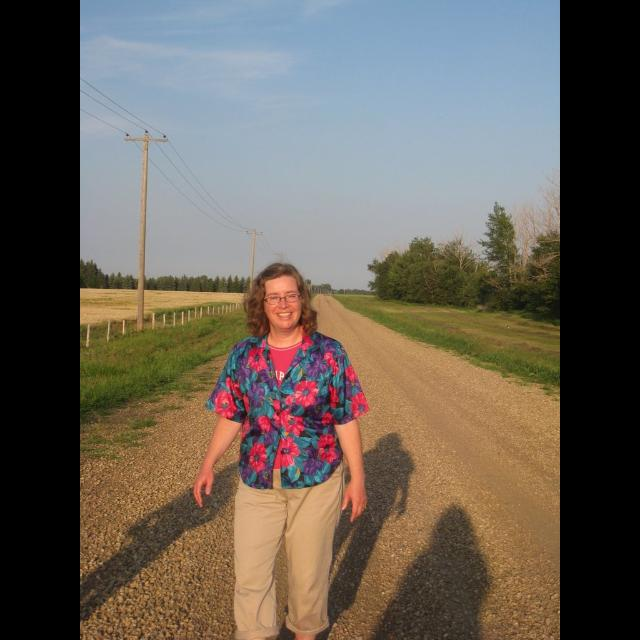Flower: (271, 437, 299, 469), (226, 377, 252, 411), (243, 340, 269, 372), (279, 409, 307, 437), (292, 383, 320, 411), (316, 434, 342, 464), (216, 390, 236, 424), (247, 444, 267, 472), (324, 349, 338, 378), (352, 392, 368, 416), (327, 382, 341, 408), (257, 418, 273, 432), (303, 336, 315, 354), (321, 409, 332, 427), (342, 367, 354, 383)
